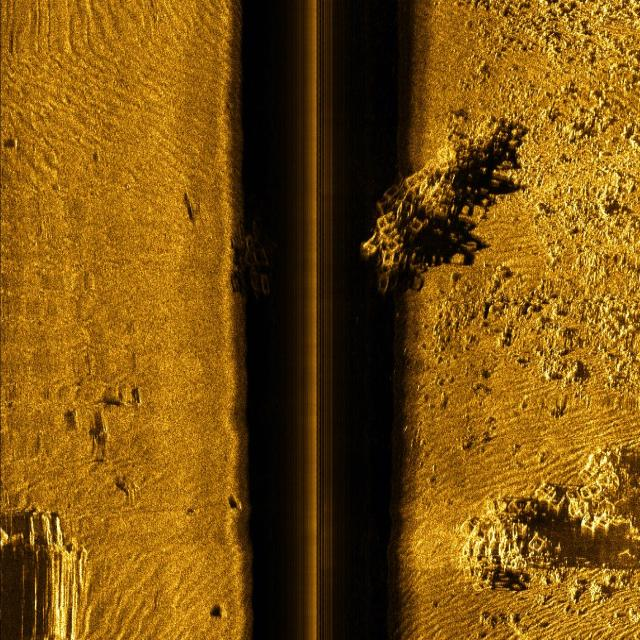artificial reef: (454, 427, 640, 582), (361, 111, 507, 282), (230, 220, 280, 306)
